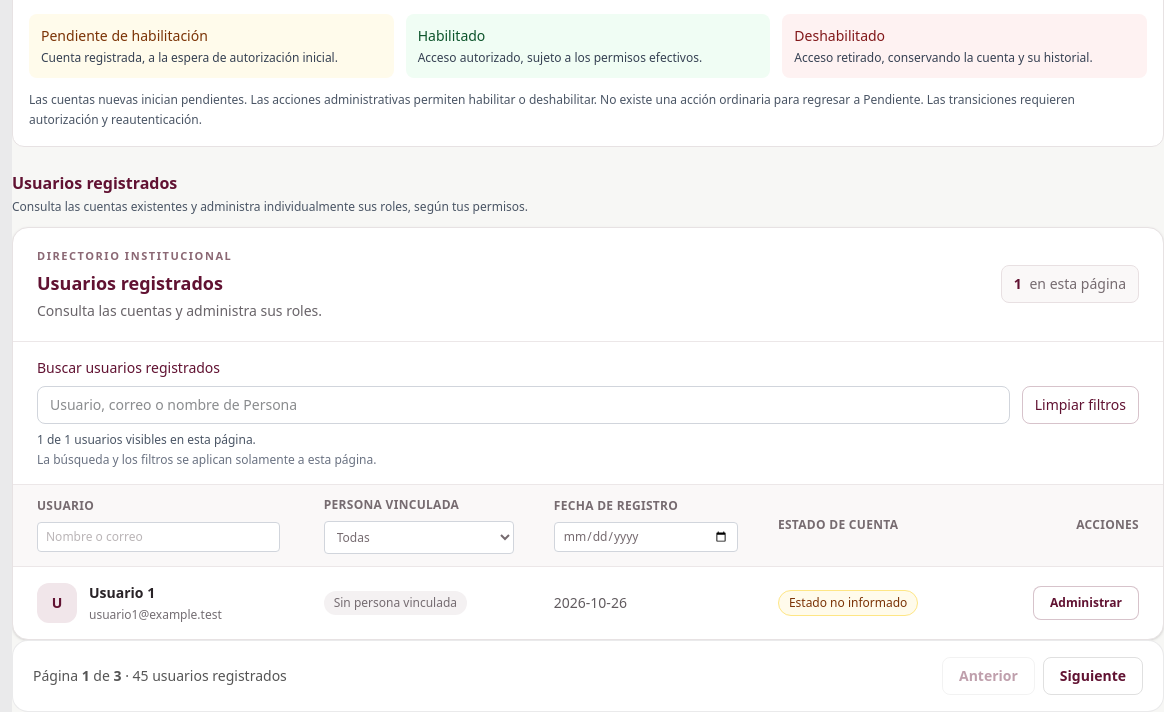
it: UsersPageComponent › permite avanzar a otra pagina
(page scrolled)
What coordinates should you click on to do the following:
click the button with test id "next-page"
I would click on:
 (1093, 676)
Its box is [1043,656,1143,694].
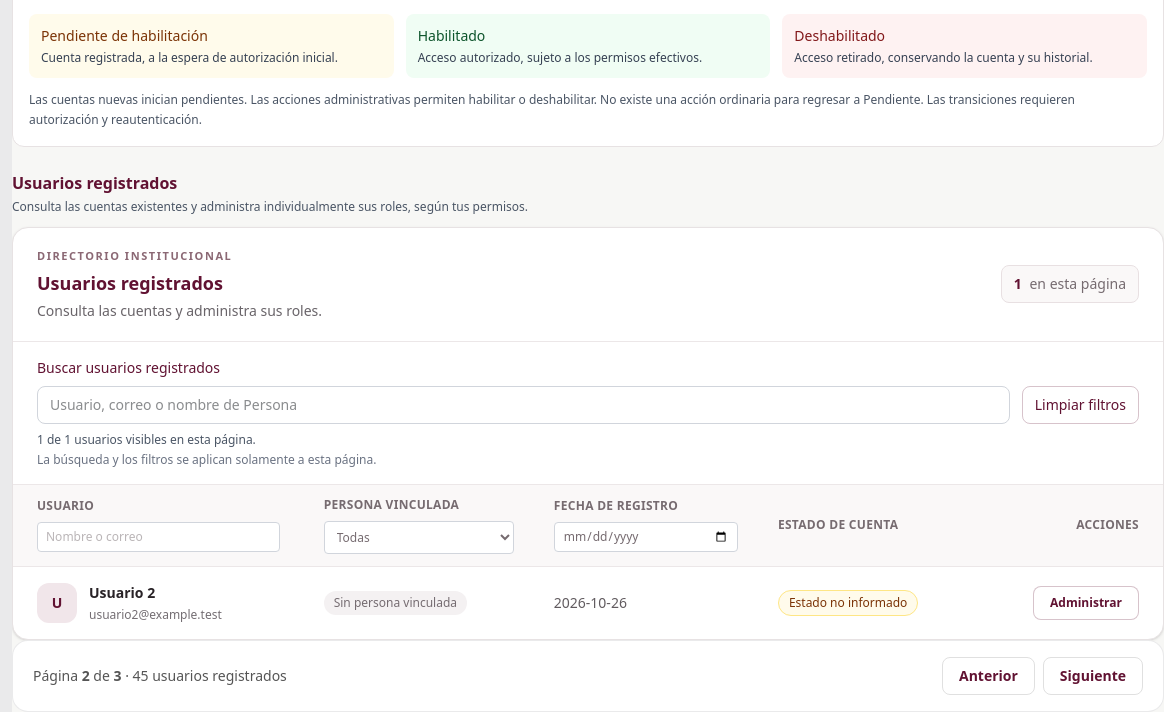
Result: the text "Usuario 2" is shown at [89,582,155,602]
